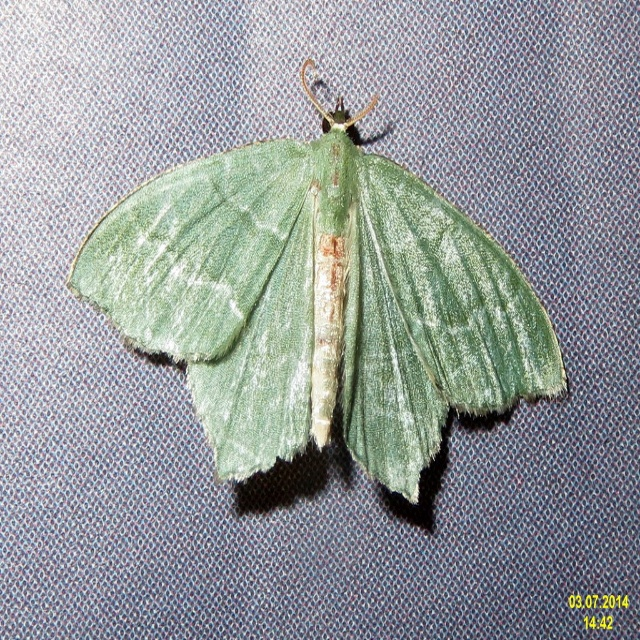Butterfly: (90, 32, 555, 518)
